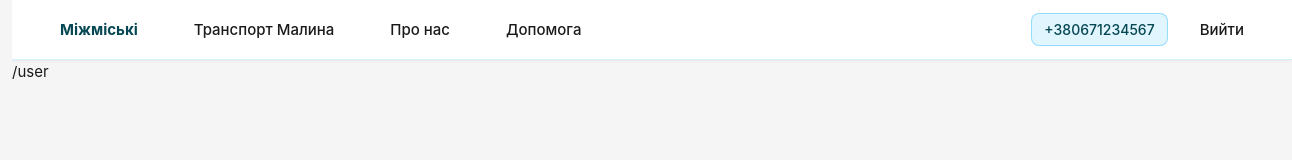
NavBar › telegram user: profile chip named by phone, «Вийти» clears the state and goes to /mizhgorodski
Expected: the link "Логін" is not shown
What coordinates should you click on to do the following:
click the button "Вийти"
I would click on:
 (1222, 30)
Its box is [1184,11,1260,48].
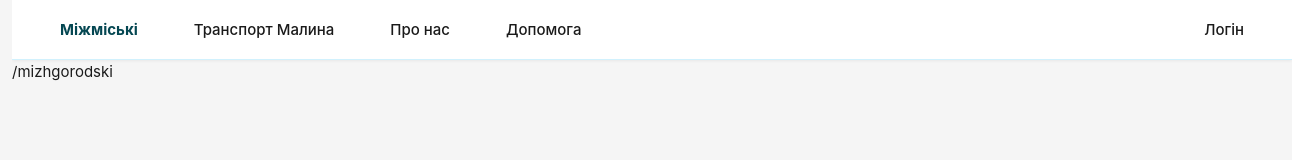
Expected: the text with test id "location" reads "/mizhgorodski", [12,62,113,81]
Expected: the link "Логін" is shown, [1204,20,1244,39]
